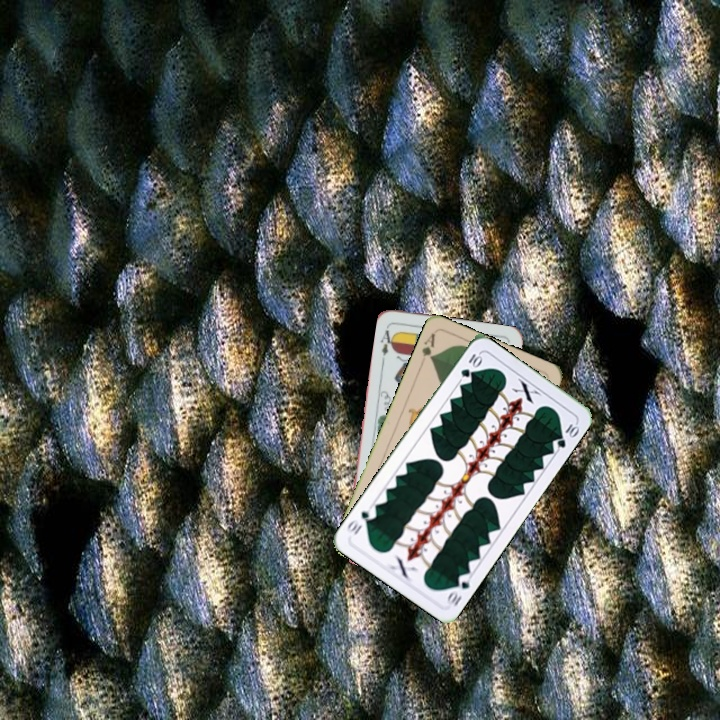EA: (376, 322, 398, 363)
G10: (442, 569, 474, 609), (456, 350, 484, 380)
GA: (418, 329, 438, 363)
